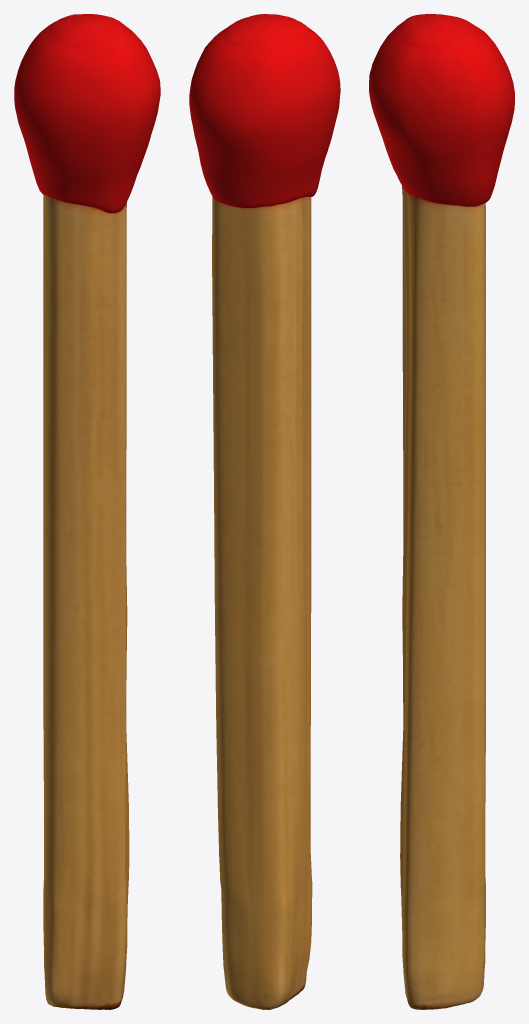
Rendered from match.glb.
3 renders of one model, left to right at view 1: azimuth 90°, elevation 25°; view 2: azimuth 150°, elevation 25°; view 3: azimuth 270°, elevation 25°, orthographic.
Parts seen in each view (by area): view 1: tripo_node_b7f572a5-d0b5-4118-a84d-fefe6c2181db; view 2: tripo_node_b7f572a5-d0b5-4118-a84d-fefe6c2181db; view 3: tripo_node_b7f572a5-d0b5-4118-a84d-fefe6c2181db.
Part boxes in pixels (left/top/right/bottom): tripo_node_b7f572a5-d0b5-4118-a84d-fefe6c2181db: left=14, top=14, right=160, bottom=1009; tripo_node_b7f572a5-d0b5-4118-a84d-fefe6c2181db: left=189, top=14, right=340, bottom=1009; tripo_node_b7f572a5-d0b5-4118-a84d-fefe6c2181db: left=369, top=14, right=514, bottom=1009.
Size of the model in its own units: 0.1285 by 1 by 0.1353.
Materials: 1 (1 with a texture image).
